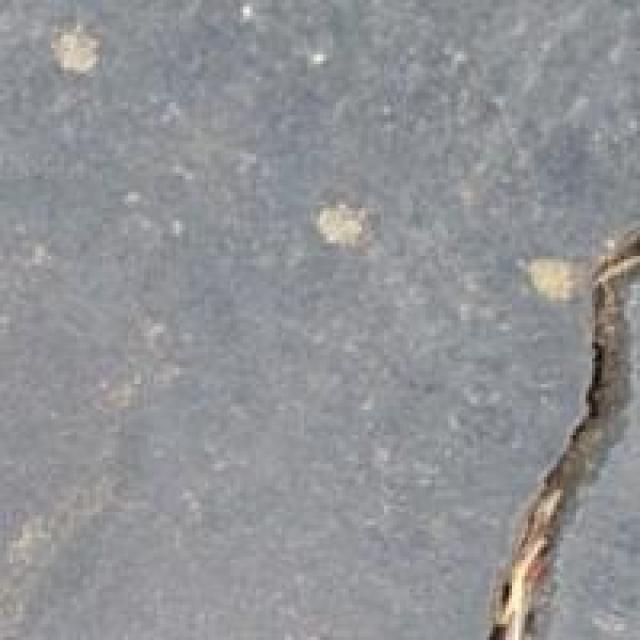crack: (450, 184, 640, 640)
